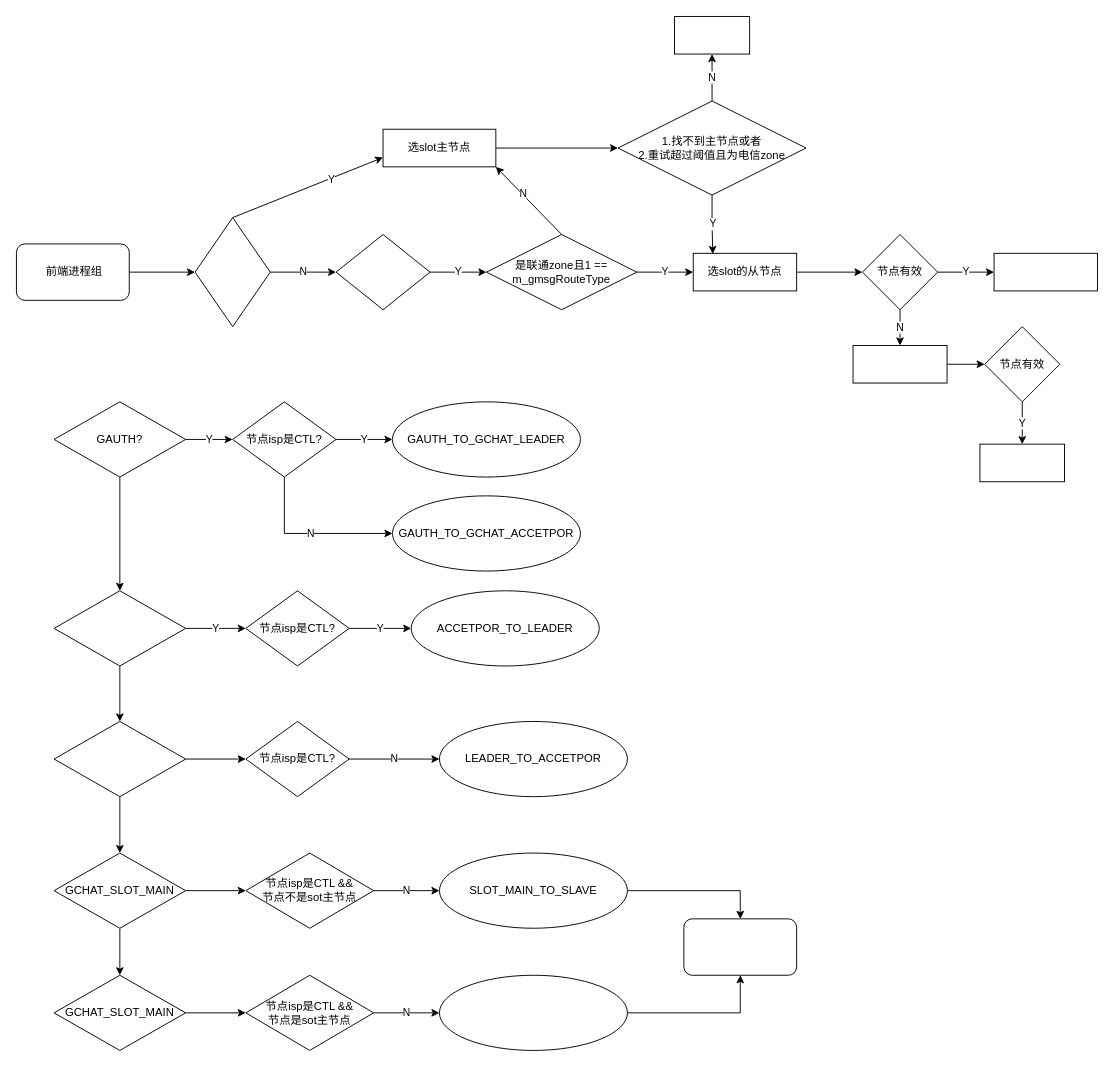
The diagram is 1114 pixels wide and 1067 high, and some of its shapes have lost their labels. The box of each missing label's shape, as (x1, y1, x2, y2) in pixels:
GCHAT_ACCEPTOR: (53, 590, 186, 666)
GCHAT_LEADER: (53, 721, 186, 797)
SLOT_SLAVE_TO_MAIN: (439, 974, 627, 1050)
是muludp?: (335, 234, 430, 310)
更新本地缓存: (683, 918, 797, 975)
派发给 可用 节点: (979, 443, 1065, 482)
派发给gauth 主节点: (674, 16, 750, 54)
派发给gauth 从节点: (993, 252, 1097, 291)
线路是tcp?: (194, 217, 270, 327)
选slot的可用节点: (852, 345, 947, 383)
